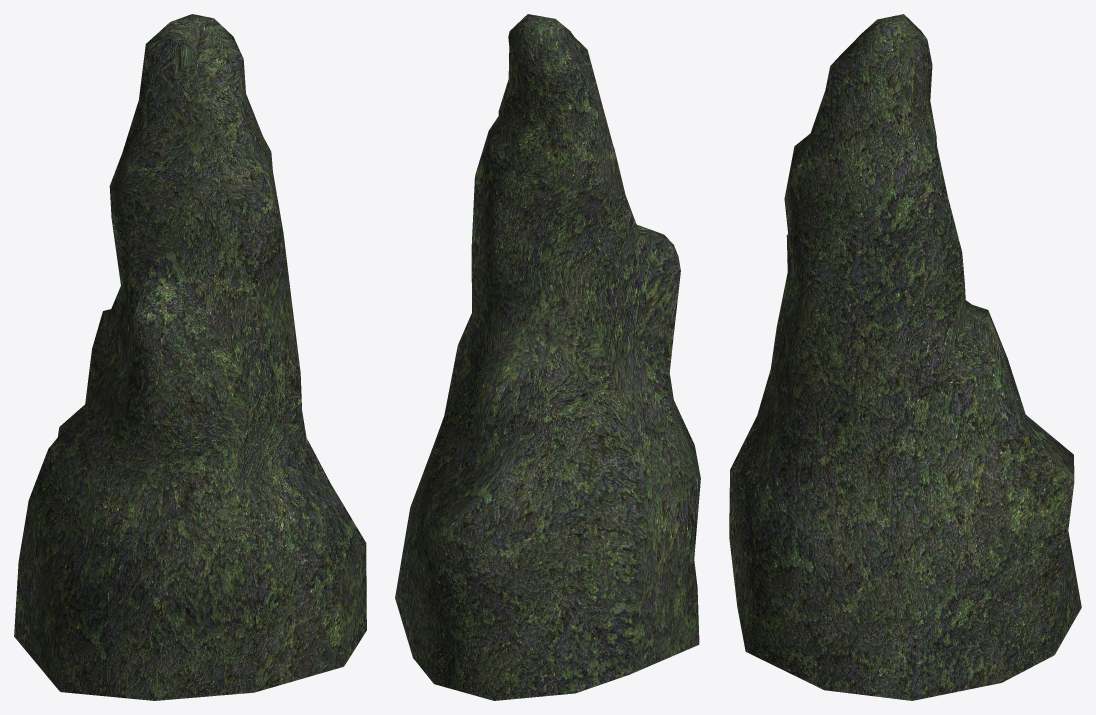
Rendered from rock_pillar_02.fbx.
3 renders of one model, left to right at view 1: azimuth 30°, elevation 25°; view 2: azimuth 150°, elevation 25°; view 3: azimuth 270°, elevation 25°, orthographic. The views are drawn at different scales.
Parts seen in each view (by area): view 1: rock_pillar_02; view 2: rock_pillar_02; view 3: rock_pillar_02.
Boxes of the visible parts, left/top/right/bottom form: rock_pillar_02: left=14, top=14, right=366, bottom=700; rock_pillar_02: left=395, top=14, right=700, bottom=700; rock_pillar_02: left=729, top=14, right=1081, bottom=700.
Bounding box in the file's own units: 30.08 × 63.43 × 32.36.
